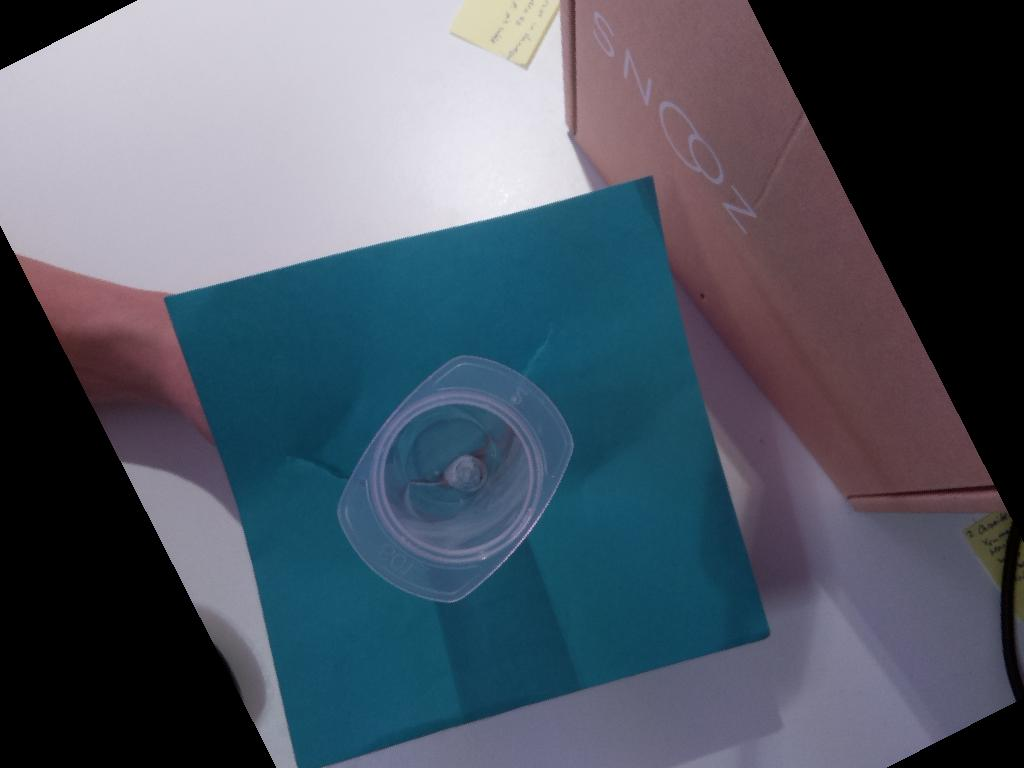clean: (329, 349, 583, 603)
